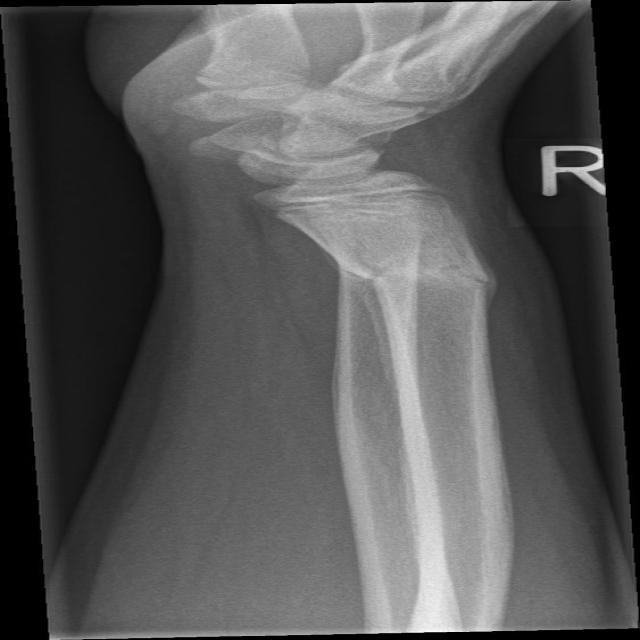fracture: (245, 181, 471, 218), (327, 258, 512, 300)
